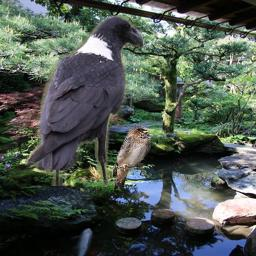Crow: (25, 15, 143, 186)
Swallow: (109, 125, 151, 191)
